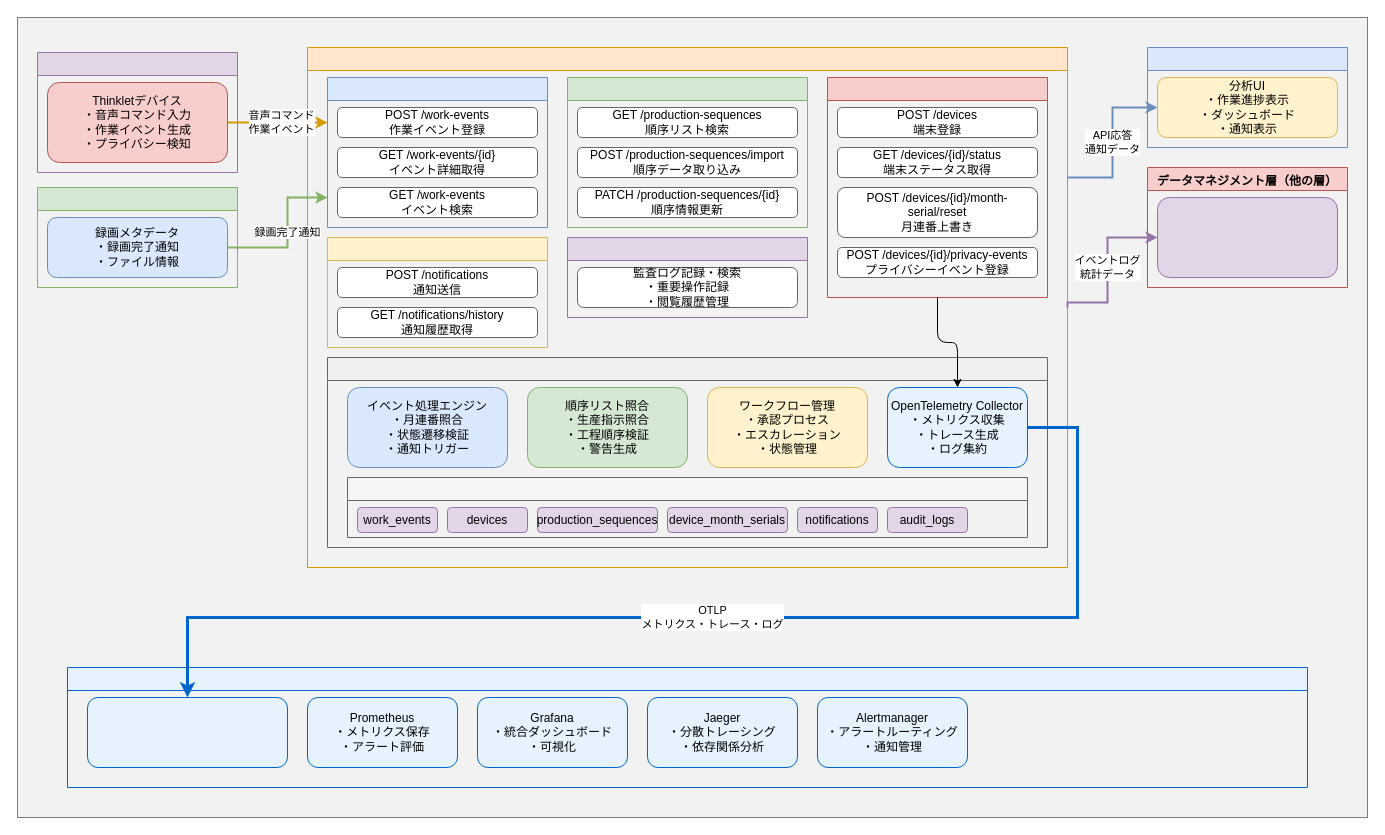
Image size: 1385x835. Some labels were removed from this diagram. Here are the shapes that lost their labels. From the top down, the box of each, then its label:
(36, 52, 238, 172): 装着型デバイス層（他の層）
(1146, 46, 1348, 148): 分析・可視化層（他の層）
(326, 76, 548, 228): 作業イベントサービス
(566, 76, 808, 228): 順序管理サービス
(826, 76, 1048, 298): 端末管理サービス
(36, 186, 238, 288): 配信・記録層（他の層）
(1156, 196, 1338, 278): ETL処理 ・イベントログ統合 ・レポート基盤 ・学習データ生成
(326, 236, 548, 348): 通知サービス
(566, 236, 808, 318): 監査ログサービス
(306, 46, 1068, 568): 業務サービス層
(326, 356, 1048, 548): 業務ロジック処理基盤
(346, 476, 1028, 538): データベース層
(86, 696, 288, 768): Kafka Cluster ・テレメトリハブ ・メトリクス・トレース・ログ集約
(66, 666, 1308, 788): 運用監視層（他の層）
